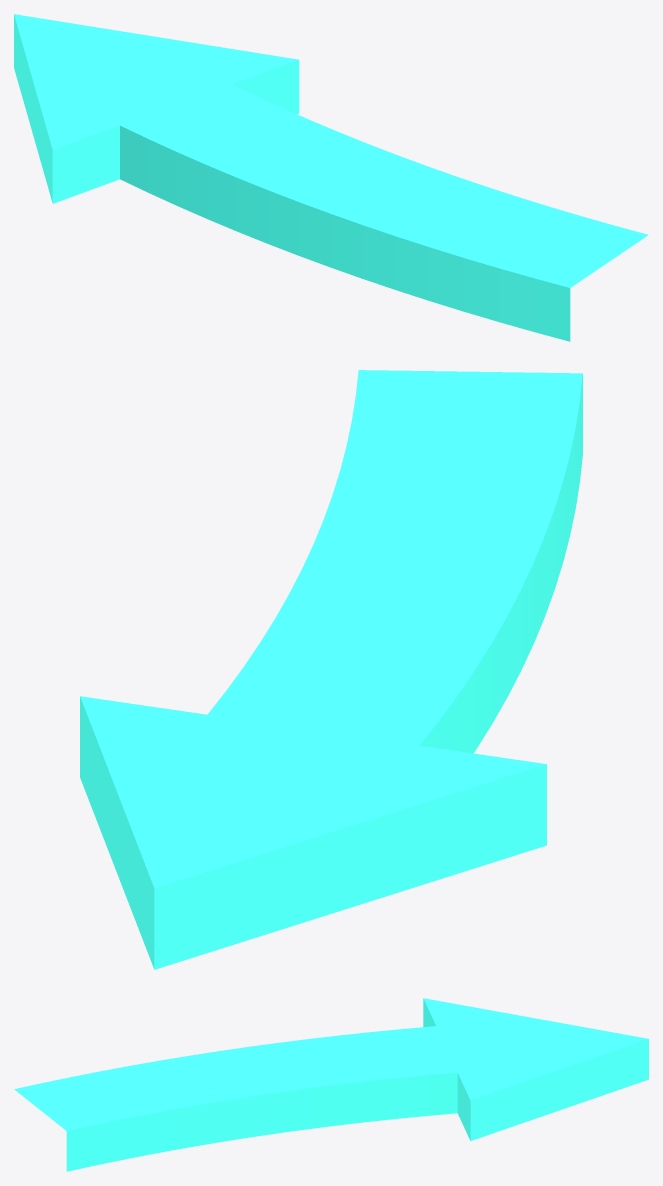
Rendered from handle_l_cw.glb.
3 views of the same model, one above another, from view 1: azimuth 30°, elevation 25°; view 2: azimuth 150°, elevation 25°; view 3: azimuth 270°, elevation 25° (orthographic). The views are drawn at different scales.
Parts seen in each view (by area): view 1: handle_l_cw; view 2: handle_l_cw; view 3: handle_l_cw.
Part boxes in pixels (left/top/right/bottom): handle_l_cw: left=14, top=14, right=648, bottom=341; handle_l_cw: left=80, top=370, right=582, bottom=969; handle_l_cw: left=14, top=998, right=648, bottom=1171.
Bounding box in the file's own units: 0.028 × 0.004 × 0.0566.
